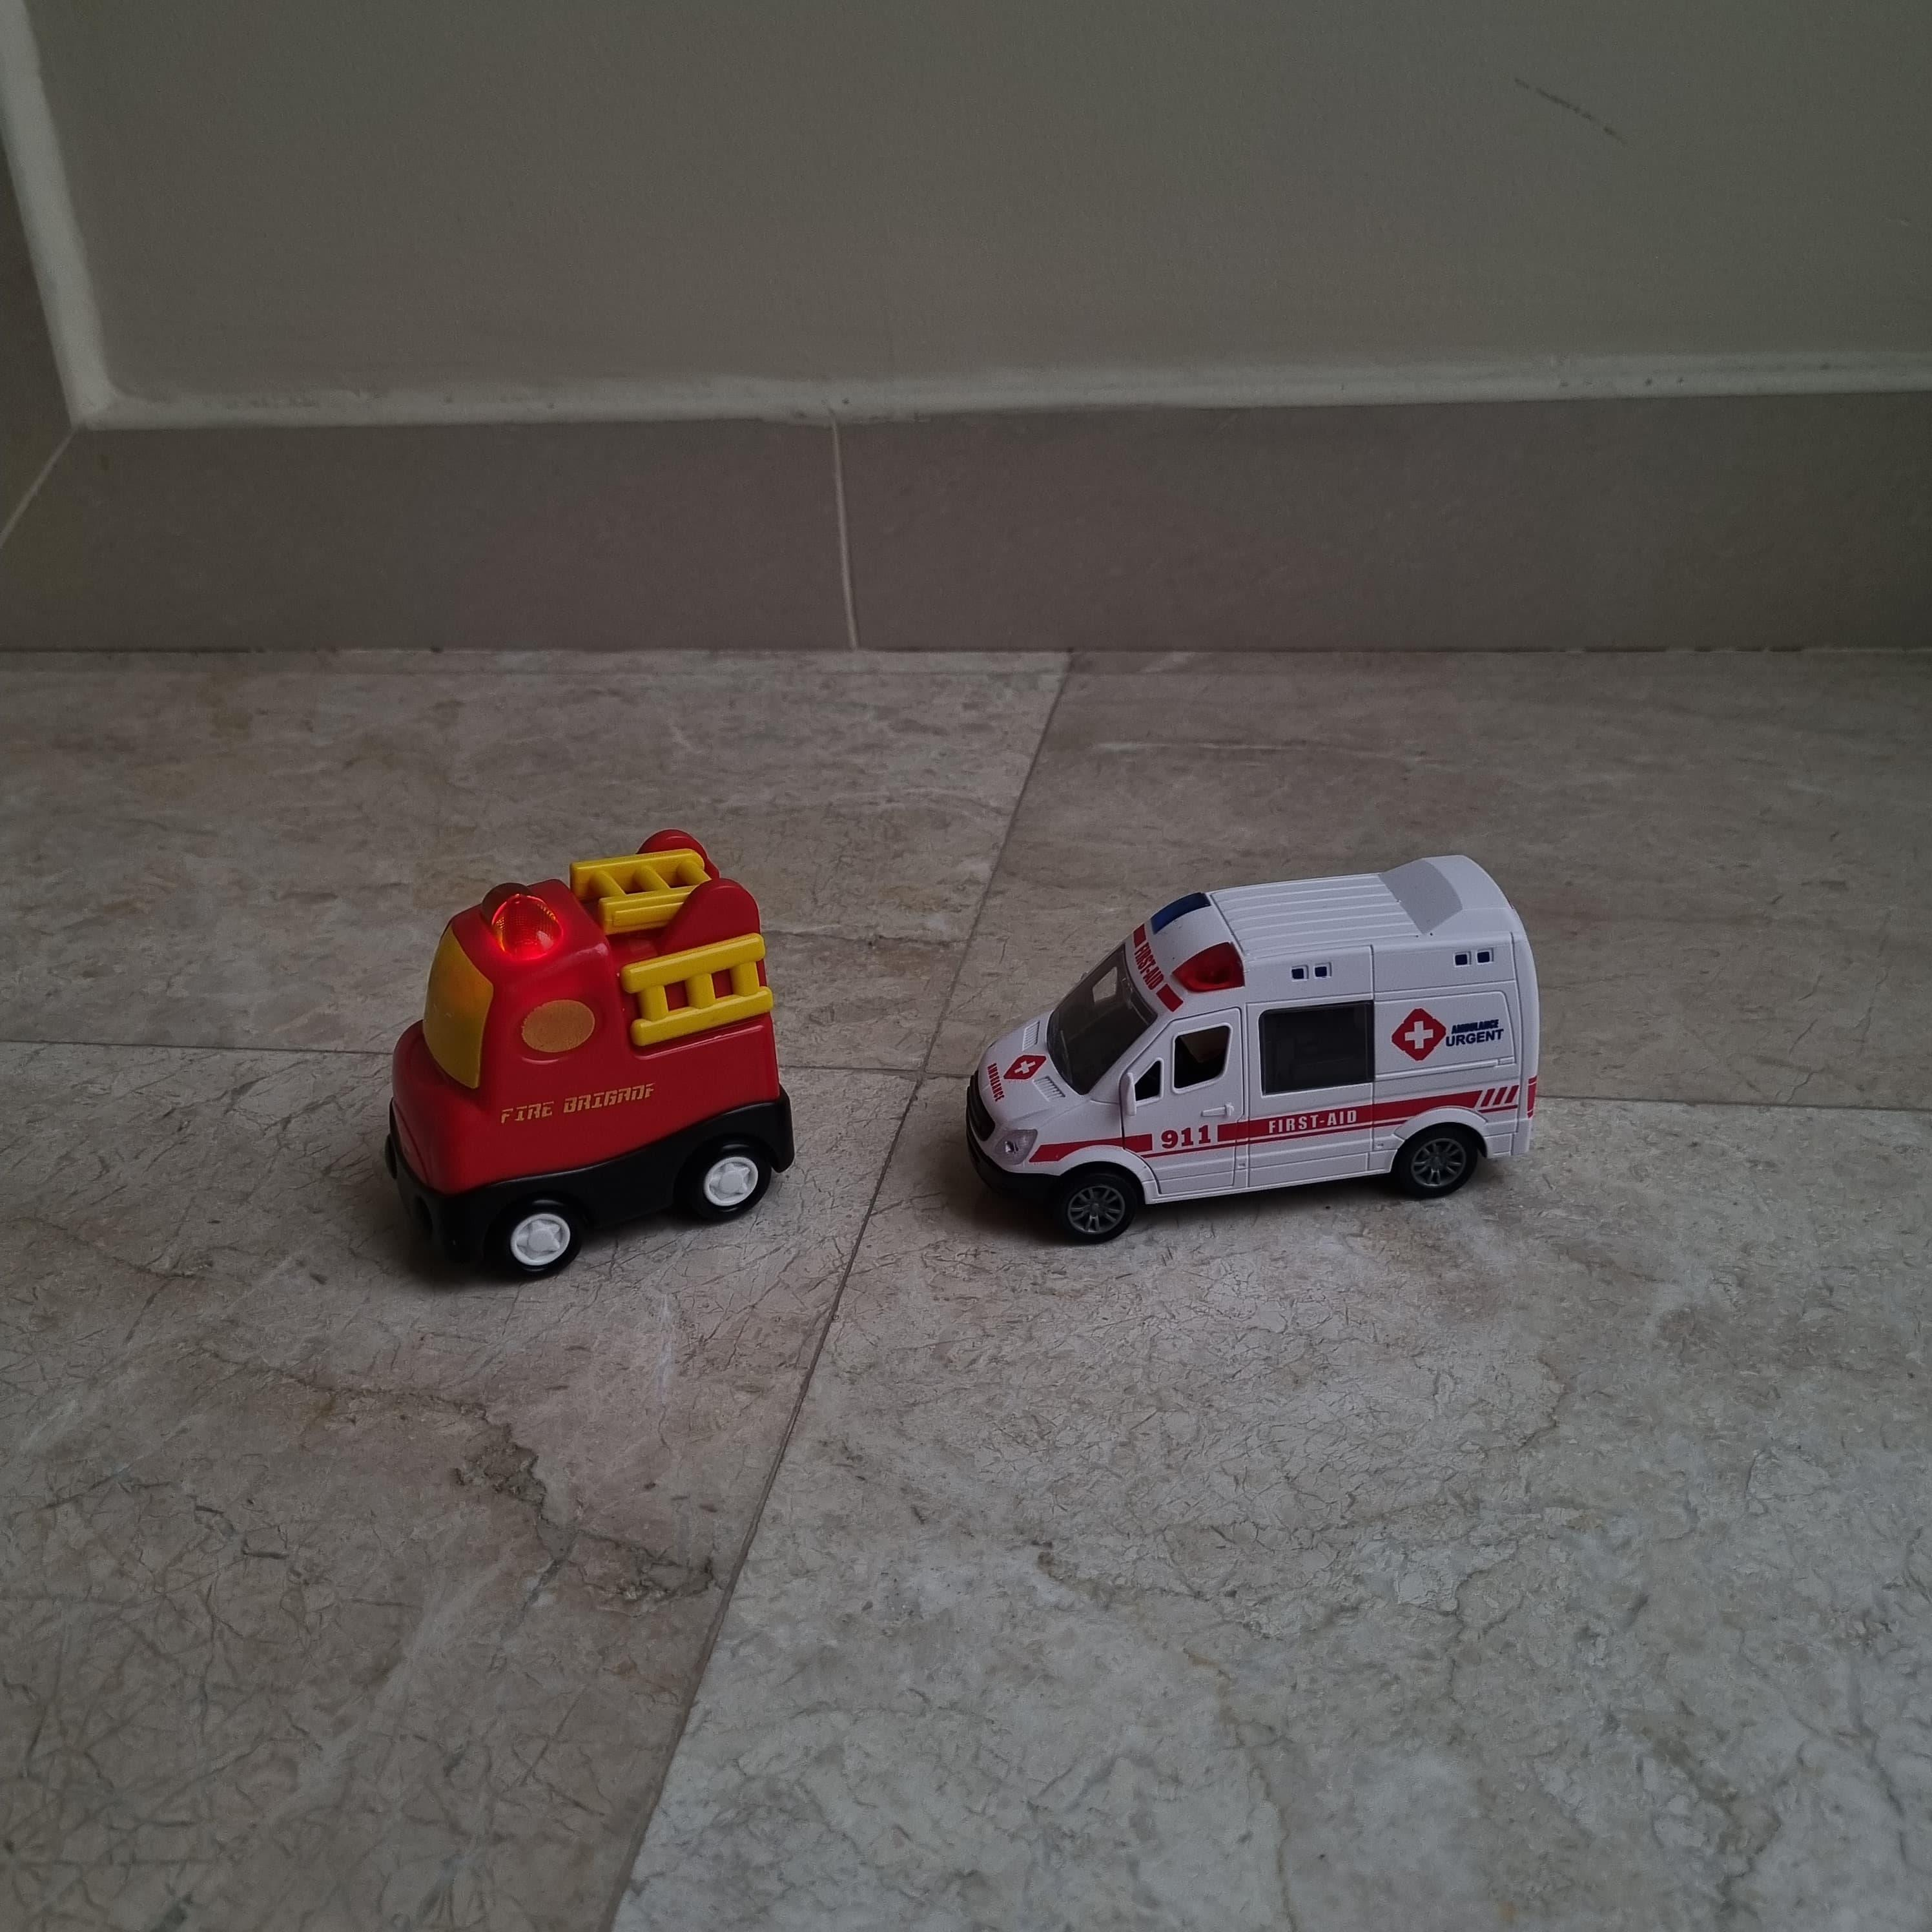ambulance_off: (970, 855, 1537, 1244)
firetruck_on: (379, 832, 796, 1281)
